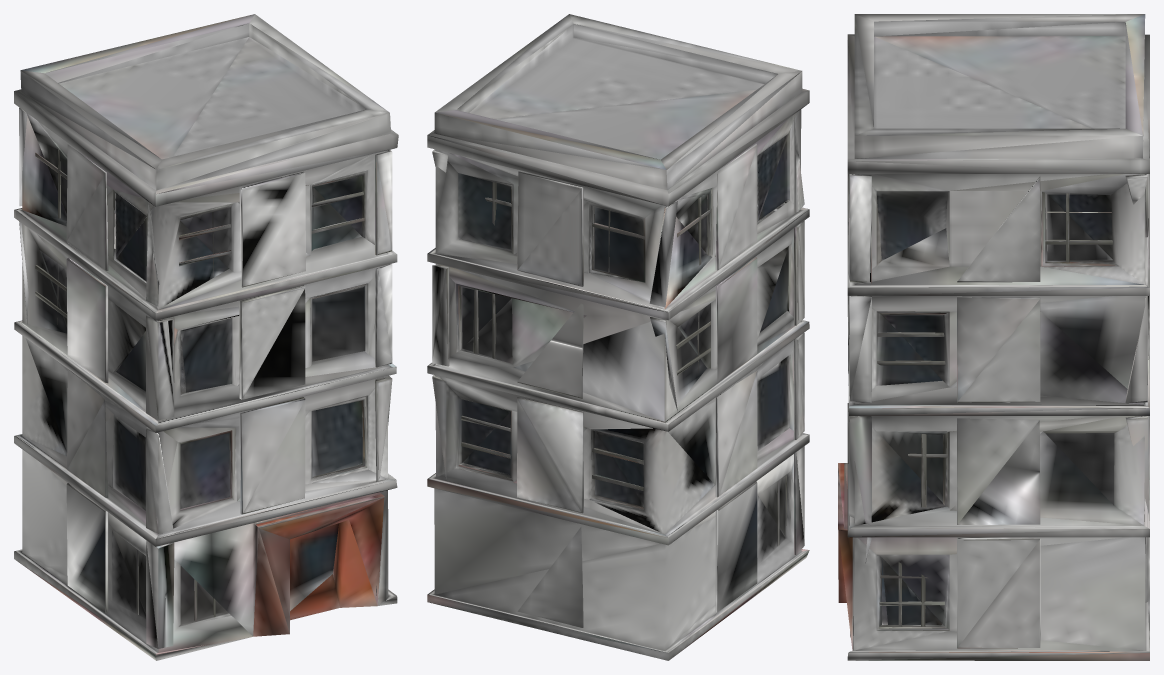
File: 05-apartment-4-floors.glb
3 views of the same model, side by side, from view 1: azimuth 30°, elevation 25°; view 2: azimuth 150°, elevation 25°; view 3: azimuth 270°, elevation 25° (orthographic). The views are drawn at different scales.
Parts seen in each view (by area): view 1: geometry_0; view 2: geometry_0; view 3: geometry_0.
Boxes of the visible parts, bbox=[...] form: geometry_0: bbox=[14, 14, 398, 660]; geometry_0: bbox=[427, 14, 809, 660]; geometry_0: bbox=[838, 14, 1149, 660].
Bounding box in the file's own units: 0.4946 × 0.9517 × 0.5141.
Materials: 1 (1 with a texture image).
